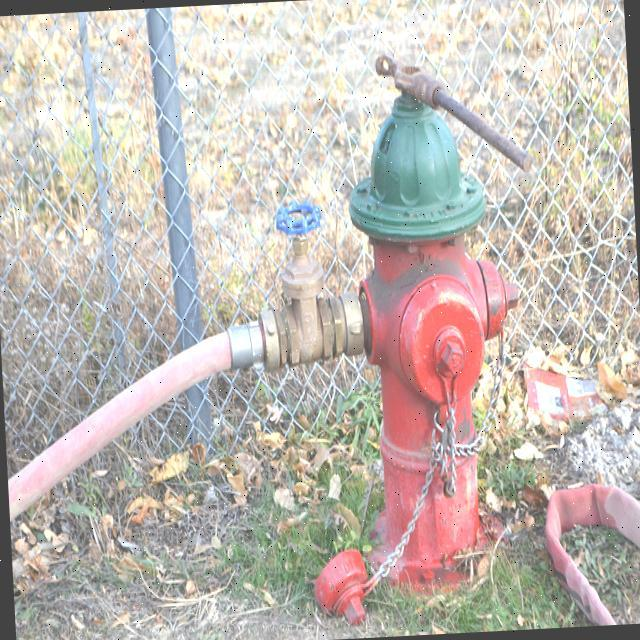fire_hydrant: (341, 84, 534, 586)
